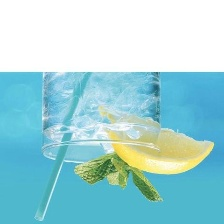drinking_straw: (31, 69, 93, 223)
glass: (36, 71, 167, 164)
